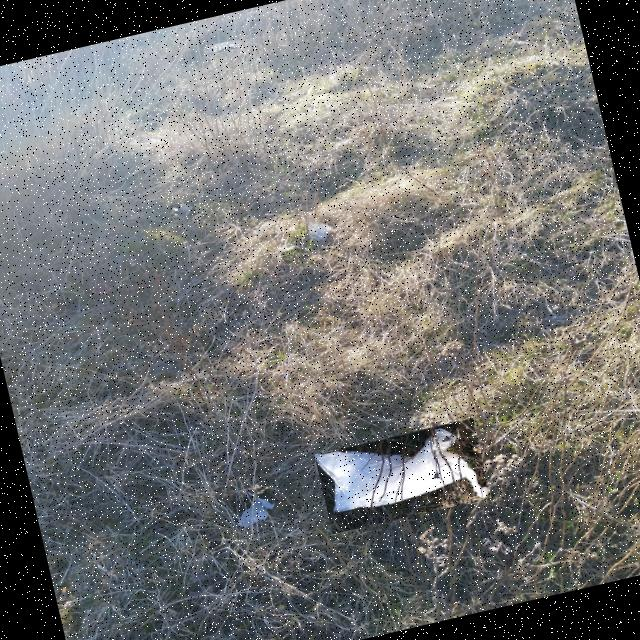Plastic film: (237, 494, 272, 526), (309, 214, 331, 243), (169, 203, 194, 217)
Single-use carrier bag: (314, 429, 489, 512)
Unlabeled litter: (207, 40, 236, 53)
